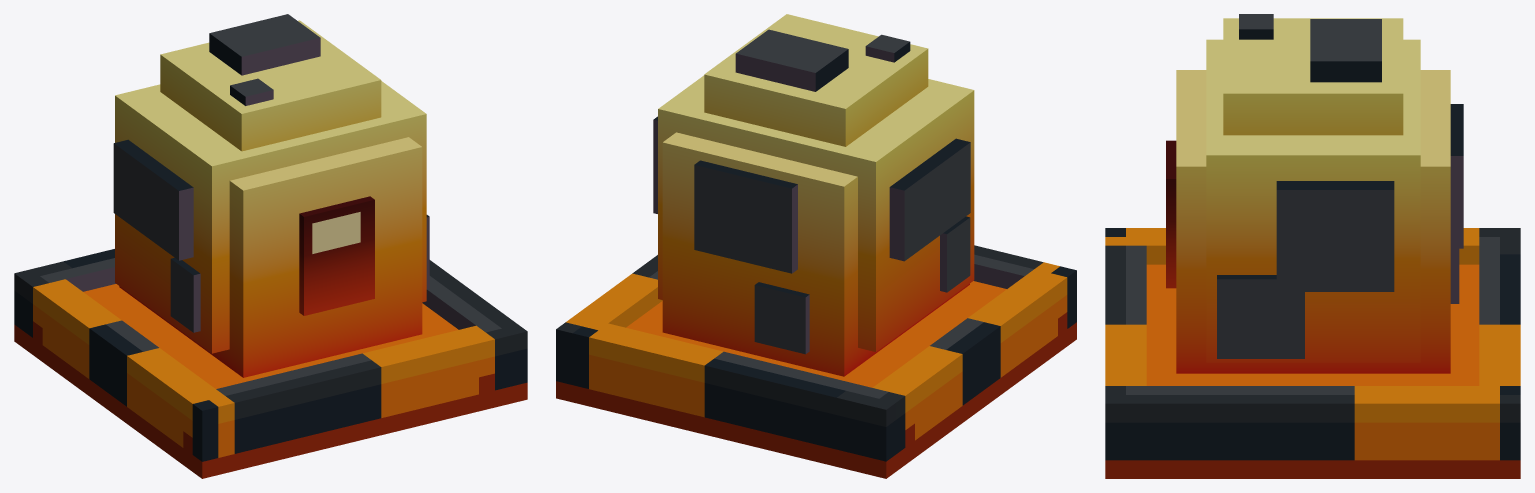
The model's file is Tower_Flame_LVL6.fbx.
3 views of the same model, side by side, from view 1: azimuth 30°, elevation 25°; view 2: azimuth 150°, elevation 25°; view 3: azimuth 270°, elevation 25° (orthographic). The views are drawn at different scales.
Parts seen in each view (by area): view 1: Base, Body, Hair, HairTop, HairTop1; view 2: Base, Body, Hair, HairTop, HairTop3, HairTop1; view 3: Base, Hair, Body, HairTop, HairTop2, HairTop3.
Boxes of the visible parts, x1=… form: Base: x1=14, y1=249, x2=527, y2=478; Body: x1=119, y1=137, x2=422, y2=377; Hair: x1=115, y1=81, x2=426, y2=353; HairTop: x1=160, y1=14, x2=381, y2=151; HairTop1: x1=113, y1=139, x2=200, y2=332; Base: x1=556, y1=245, x2=1076, y2=478; Body: x1=662, y1=132, x2=969, y2=376; Hair: x1=658, y1=75, x2=974, y2=351; HairTop: x1=704, y1=14, x2=928, y2=146; HairTop3: x1=694, y1=160, x2=809, y2=354; HairTop1: x1=889, y1=138, x2=970, y2=292; Base: x1=1105, y1=228, x2=1520, y2=478; Hair: x1=1206, y1=39, x2=1420, y2=362; Body: x1=1166, y1=70, x2=1450, y2=373; HairTop: x1=1223, y1=14, x2=1403, y2=135; HairTop2: x1=1217, y1=181, x2=1394, y2=358; HairTop3: x1=1450, y1=104, x2=1463, y2=303.
Bounding box in the file's own units: 100 × 94.5 × 100.
